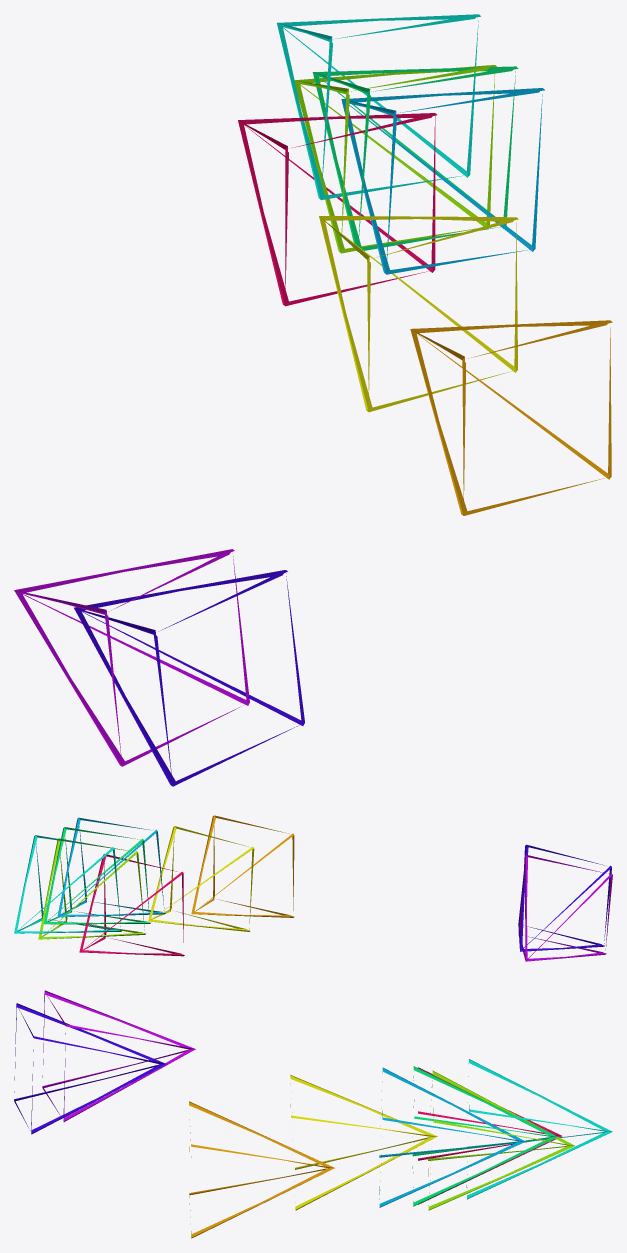
The model's file is VGGT_9.glb.
The picture shows the model from 3 angles, top to bottom: view 1: azimuth 30°, elevation 25°; view 2: azimuth 150°, elevation 25°; view 3: azimuth 270°, elevation 25°; orthographic projection. The views are drawn at different scales.
Parts seen in each view (by area): view 1: world; view 2: world; view 3: world.
Boxes of the visible parts, left/top/right/bottom form: world: left=14, top=14, right=612, bottom=786; world: left=14, top=815, right=612, bottom=961; world: left=14, top=990, right=612, bottom=1238.
Bounding box in the file's own units: 0.2208 × 0.0968 × 0.2629.
